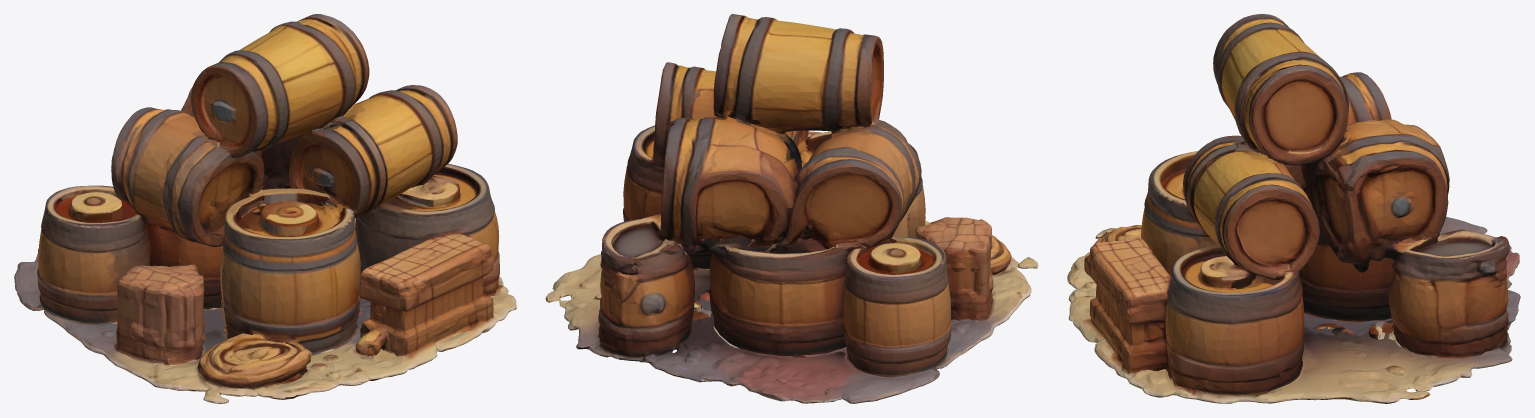
File: wooden_barrel_crate_stack.glb
3 renders of one model, left to right at view 1: azimuth 30°, elevation 25°; view 2: azimuth 150°, elevation 25°; view 3: azimuth 270°, elevation 25°, orthographic.
Parts seen in each view (by area): view 1: tmpozkrvvto.ply; view 2: tmpozkrvvto.ply; view 3: tmpozkrvvto.ply.
Part boxes in pixels (x1,y1,x2,y2): tmpozkrvvto.ply: [14, 14, 516, 403]; tmpozkrvvto.ply: [545, 14, 1038, 403]; tmpozkrvvto.ply: [1067, 14, 1520, 403].
Bounding box in the file's own units: 1.98 × 1.31 × 1.98.
1 material, 1 textured.
